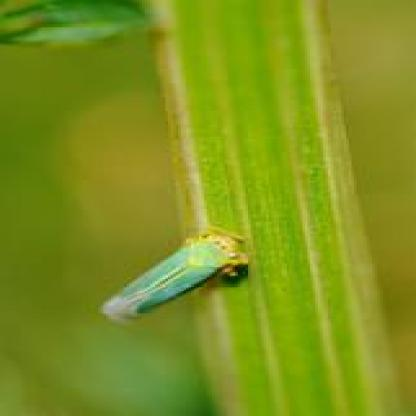Green-Leafhopper: (95, 228, 248, 321)
